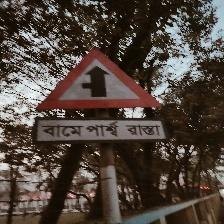Side-road-left: (33, 46, 169, 145)
